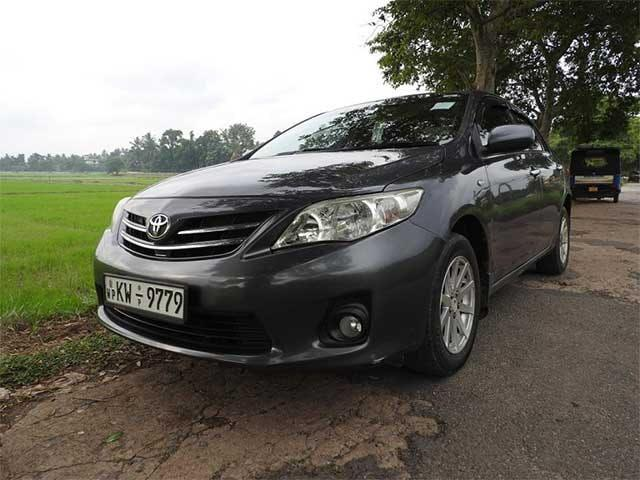license-plate: (103, 275, 183, 318)
